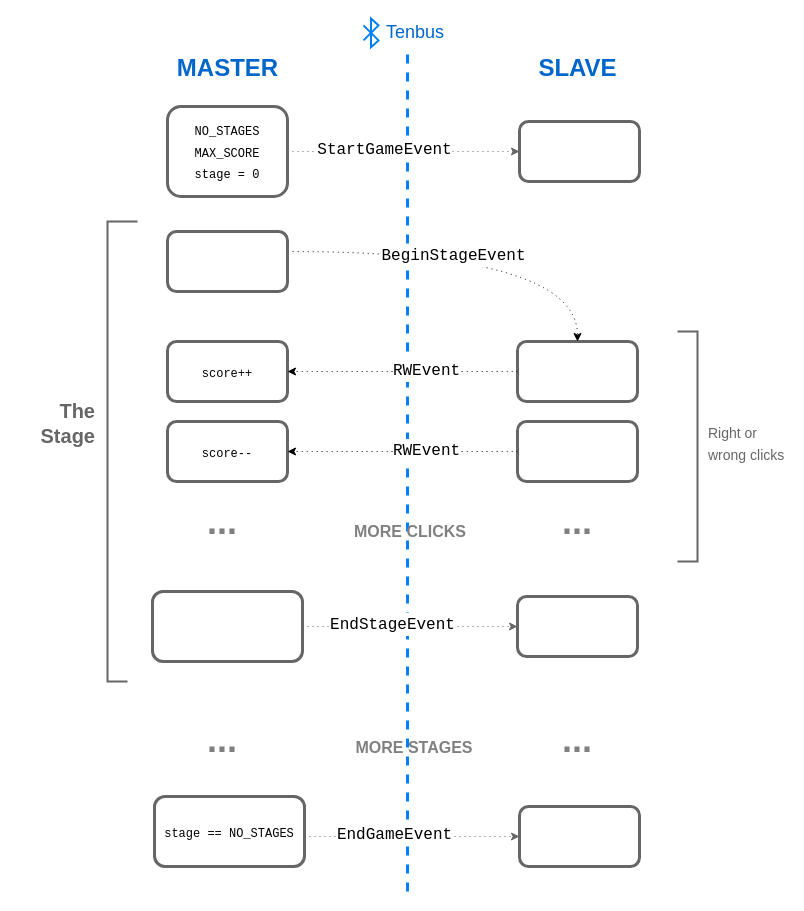
The diagram is 804 pixels wide and 911 high, and some of its shapes have lost their labels. The centre of each missing label's shape, as x and y in pixels:
"score = 0" goes at point (227, 261).
"score == MAX_SCORE" goes at point (227, 626).
